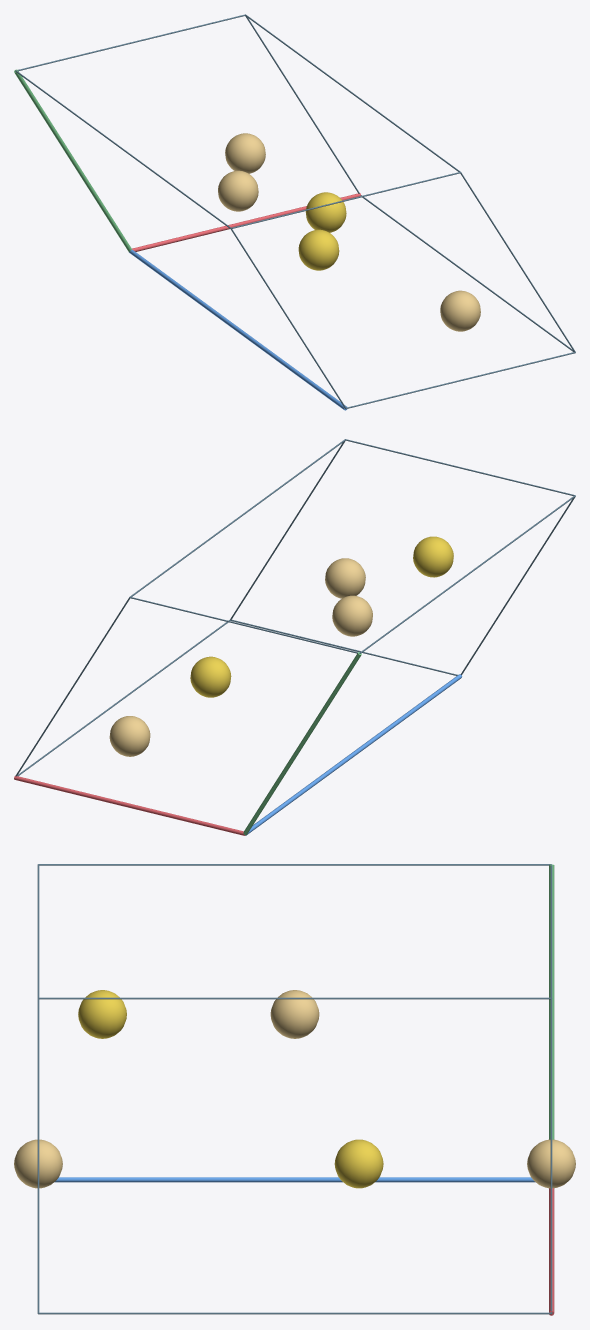
The model's file is chat-greenockite.glb.
3 renders of one model, top to bottom at view 1: azimuth 30°, elevation 25°; view 2: azimuth 150°, elevation 25°; view 3: azimuth 270°, elevation 25°, orthographic. The views are drawn at different scales.
Visible parts, largest first — view 1: Ô mạng và các trục a, b, c, Cd · Cd · 1 (×3), S · S · 1 (×2); view 2: Ô mạng và các trục a, b, c, Cd · Cd · 1 (×3), S · S · 1 (×2); view 3: Ô mạng và các trục a, b, c, Cd · Cd · 1 (×3), S · S · 1 (×2).
Boxes of the visible parts, <box> form: Ô mạng và các trục a, b, c: <box>14,14,575,410</box>; Cd · Cd · 1 (×3): <box>218,133,480,331</box>; S · S · 1 (×2): <box>298,192,346,270</box>; Ô mạng và các trục a, b, c: <box>14,439,575,835</box>; Cd · Cd · 1 (×3): <box>109,558,372,756</box>; S · S · 1 (×2): <box>190,536,453,697</box>; Ô mạng và các trục a, b, c: <box>37,864,554,1315</box>; Cd · Cd · 1 (×3): <box>14,990,575,1188</box>; S · S · 1 (×2): <box>78,990,383,1188</box>.
Size of the model in its own units: 6.25 by 3.64 by 7.35.
